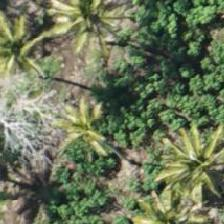coconut_tree: (150, 109, 223, 199), (45, 0, 135, 62), (0, 11, 58, 101)
